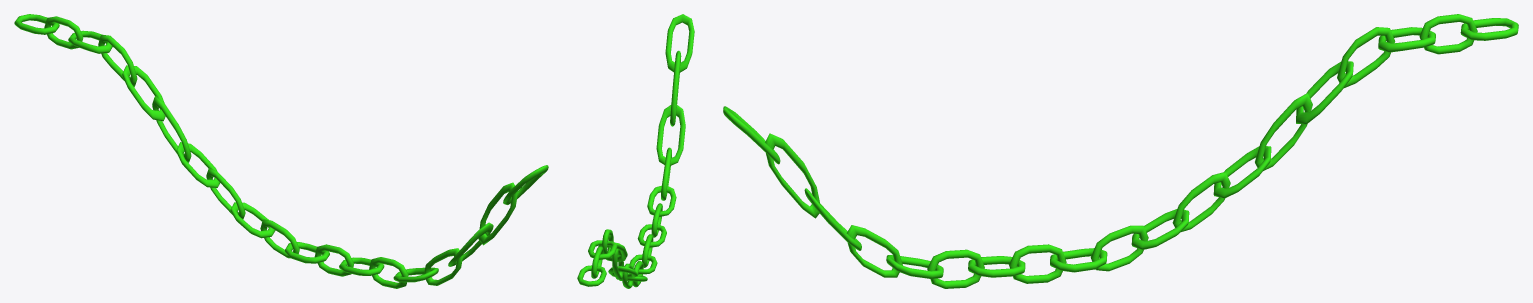
File: Pipe Chains.fbx
3 views of the same model, side by side, from view 1: azimuth 30°, elevation 25°; view 2: azimuth 150°, elevation 25°; view 3: azimuth 270°, elevation 25° (orthographic). The views are drawn at different scales.
Parts seen in each view (by area): view 1: Chain Links.003; view 2: Chain Links.003; view 3: Chain Links.003.
Part boxes in pixels (x1=…): Chain Links.003: x1=14, y1=14, x2=548, y2=288; Chain Links.003: x1=577, y1=14, x2=694, y2=288; Chain Links.003: x1=723, y1=14, x2=1518, y2=288.
Bounding box in the file's own units: 51.93 × 40.1 × 128.
